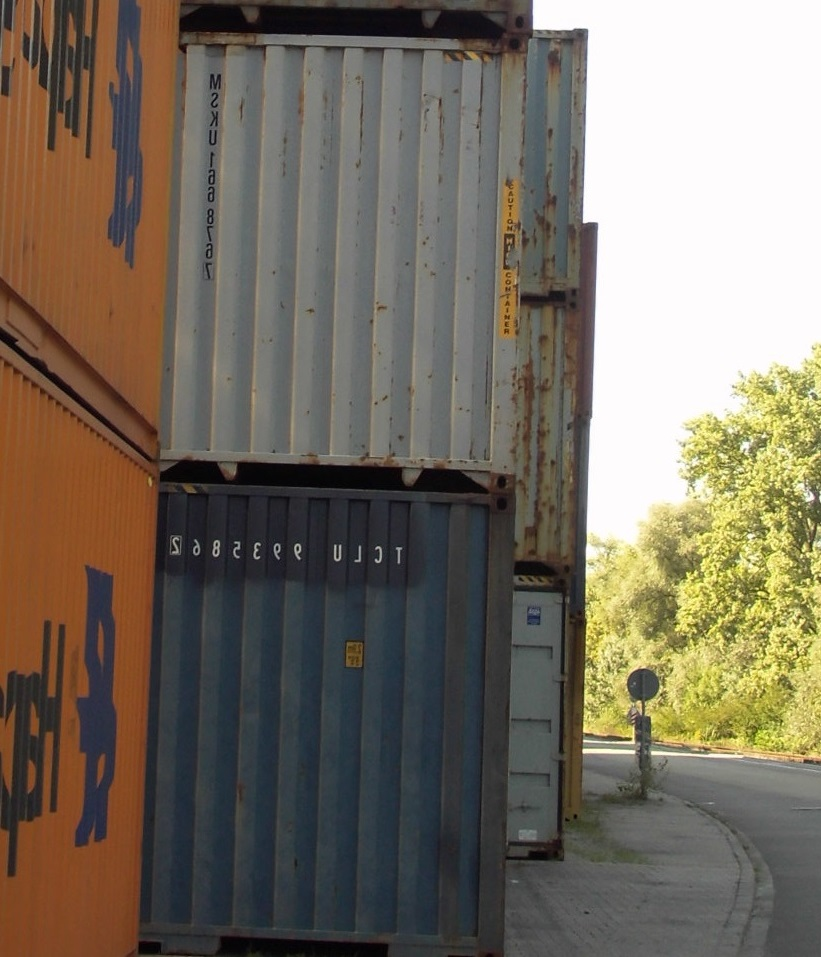container_no_door: (152, 477, 508, 957), (165, 40, 530, 476)
